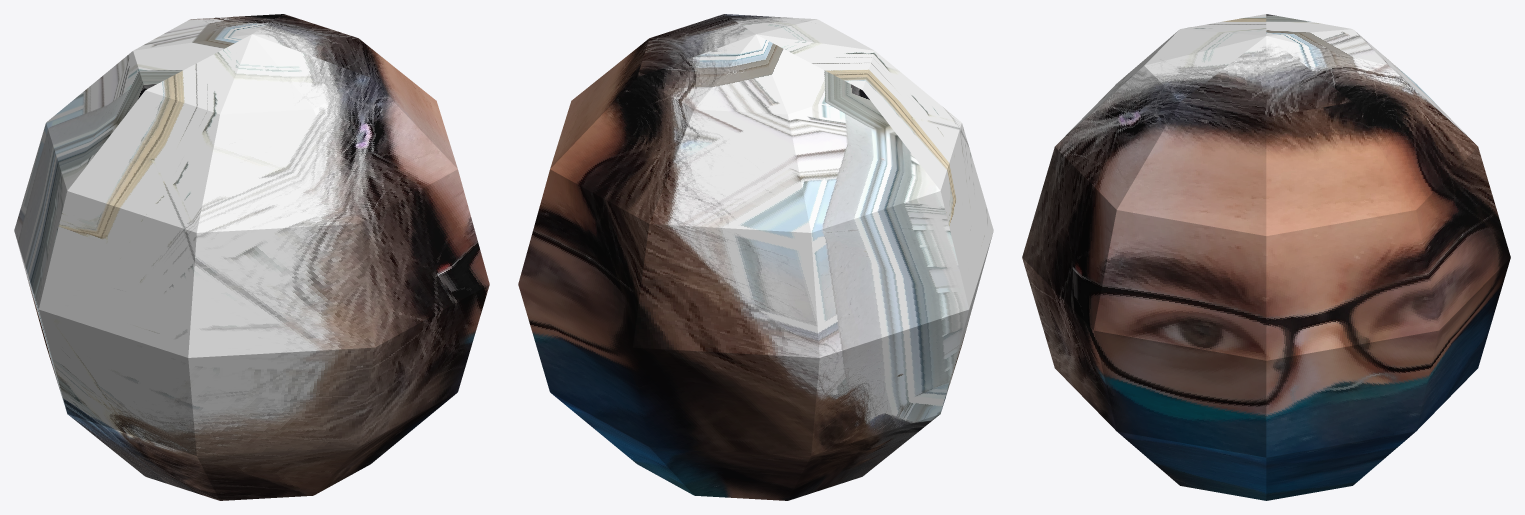
File: TerraBall_2.0.glb
The picture shows the model from 3 angles, left to right: view 1: azimuth 30°, elevation 25°; view 2: azimuth 150°, elevation 25°; view 3: azimuth 270°, elevation 25°; orthographic projection.
Parts seen in each view (by area): view 1: TerraBall 2.0; view 2: TerraBall 2.0; view 3: TerraBall 2.0.
Boxes of the visible parts, x1,y1,x2,y2 form: TerraBall 2.0: (14, 14, 489, 500); TerraBall 2.0: (518, 14, 993, 500); TerraBall 2.0: (1022, 14, 1510, 500).
Size of the model in its own units: 2 by 2 by 2.
1 material, 1 textured.
